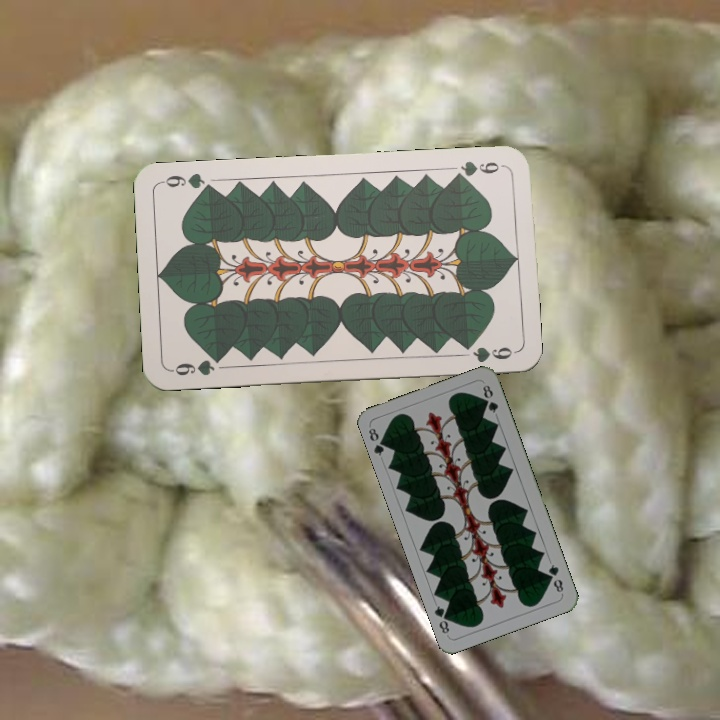G8: (364, 423, 390, 458), (544, 560, 566, 595)
G9: (167, 352, 226, 379), (448, 157, 507, 182)
